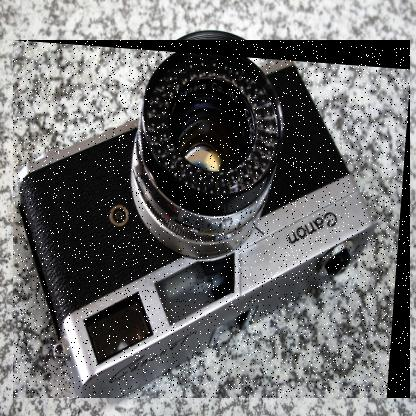Camera: (14, 41, 412, 400)
